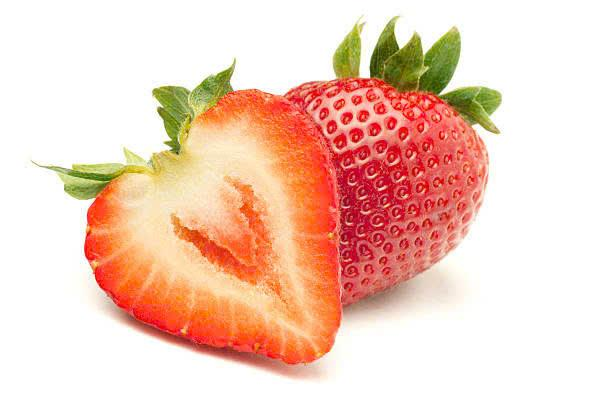strawberry: (82, 86, 349, 373), (340, 32, 496, 308)
